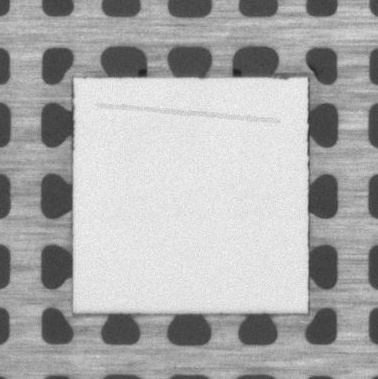DIE_CRACK: (98, 105, 279, 121)
